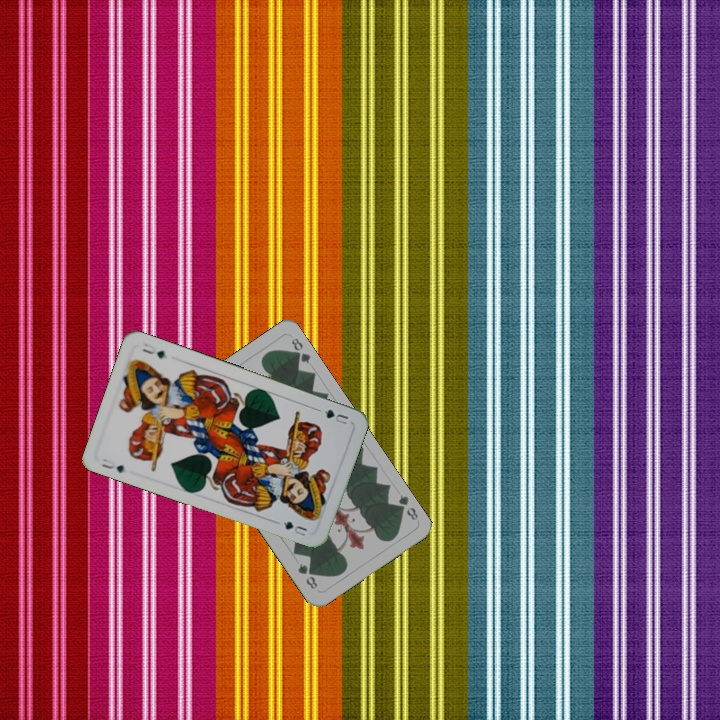G8: (391, 491, 421, 523)
GU: (320, 405, 351, 427), (97, 454, 126, 476)
